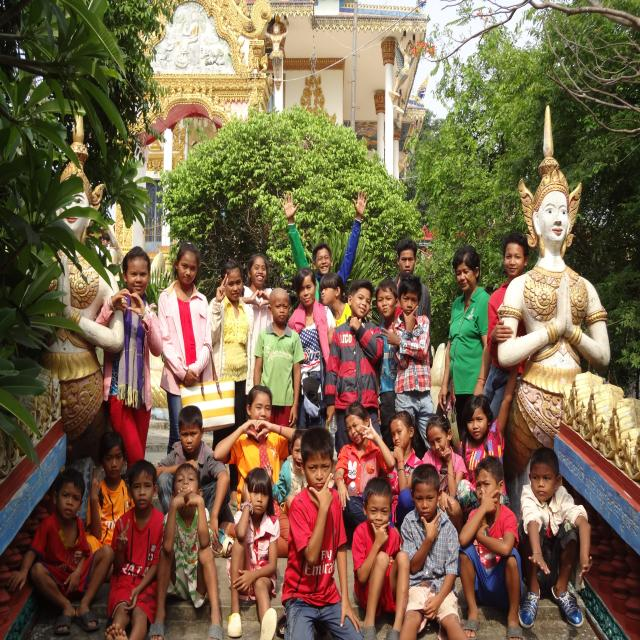body: (507, 173, 610, 455), (4, 465, 116, 638), (280, 424, 364, 640), (94, 245, 164, 482), (53, 182, 118, 428), (516, 445, 594, 630), (147, 461, 225, 640), (396, 462, 470, 640), (457, 454, 526, 640), (157, 240, 214, 457), (458, 335, 521, 525), (472, 231, 532, 428), (214, 384, 306, 510), (103, 459, 165, 640), (279, 188, 370, 311), (437, 245, 492, 444), (324, 279, 384, 461), (156, 404, 232, 546), (379, 273, 438, 453), (350, 475, 411, 640), (226, 465, 281, 640), (208, 255, 255, 452), (286, 266, 338, 432), (333, 399, 397, 531), (82, 429, 136, 585), (253, 286, 306, 429), (371, 276, 407, 456), (380, 409, 425, 550), (421, 414, 469, 537), (239, 252, 273, 419), (391, 238, 434, 370), (262, 428, 308, 510), (320, 272, 352, 345)
